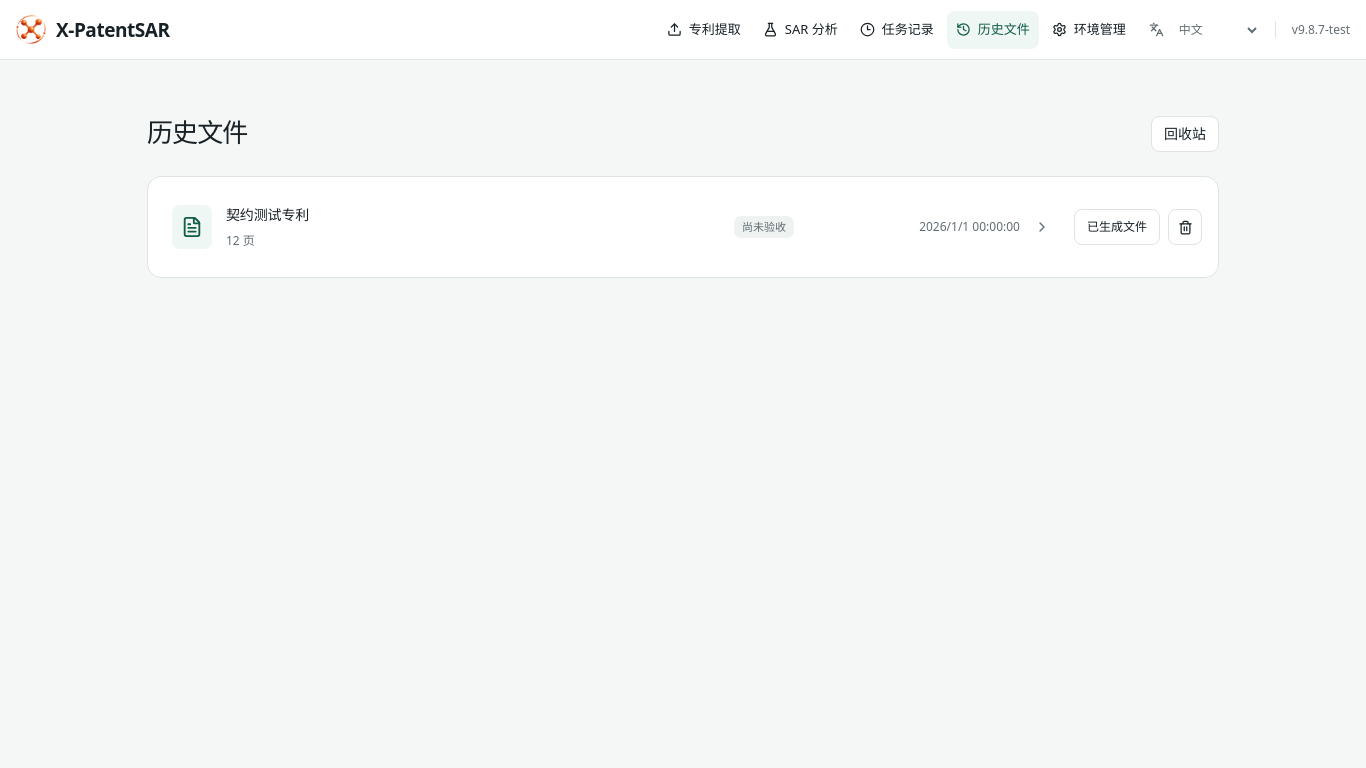
minimal application shell, routes and failure states › opens a recent file through the existing project API, not a dashboard
Check: the list named "历史专利文件" is shown, box [147,176,1219,278]
Click the button "契约测试专利 12 页 尚未验收 2026/1/1 00:00:00".
click(192, 227)  # box [148,183,1074,271]
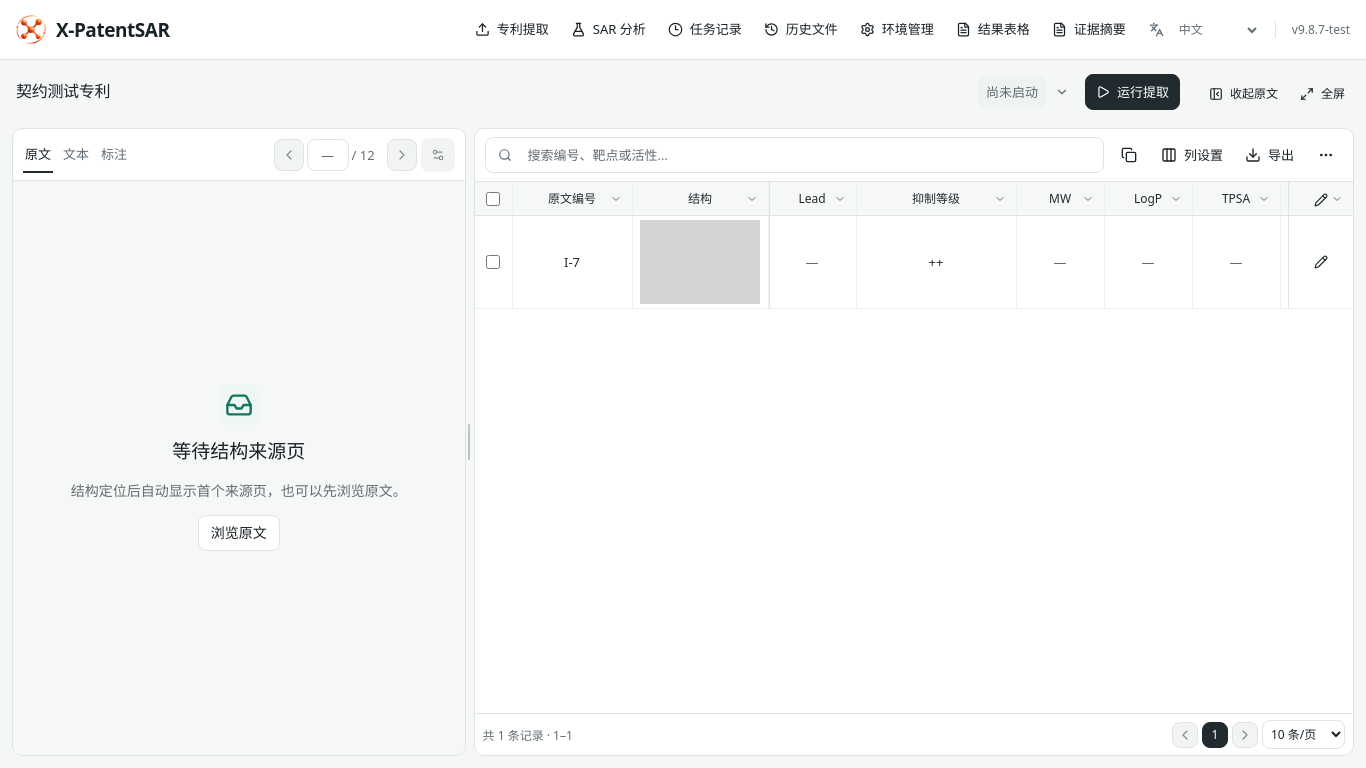
Check: the button titled "抑制等级 = ++" is shown, box [924,250,948,274]
